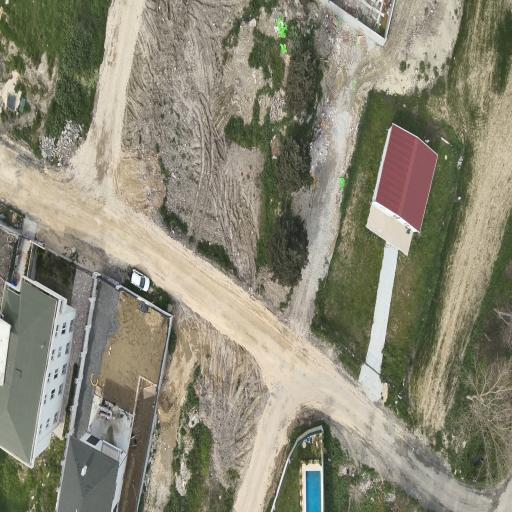car: (131, 269, 150, 291)
